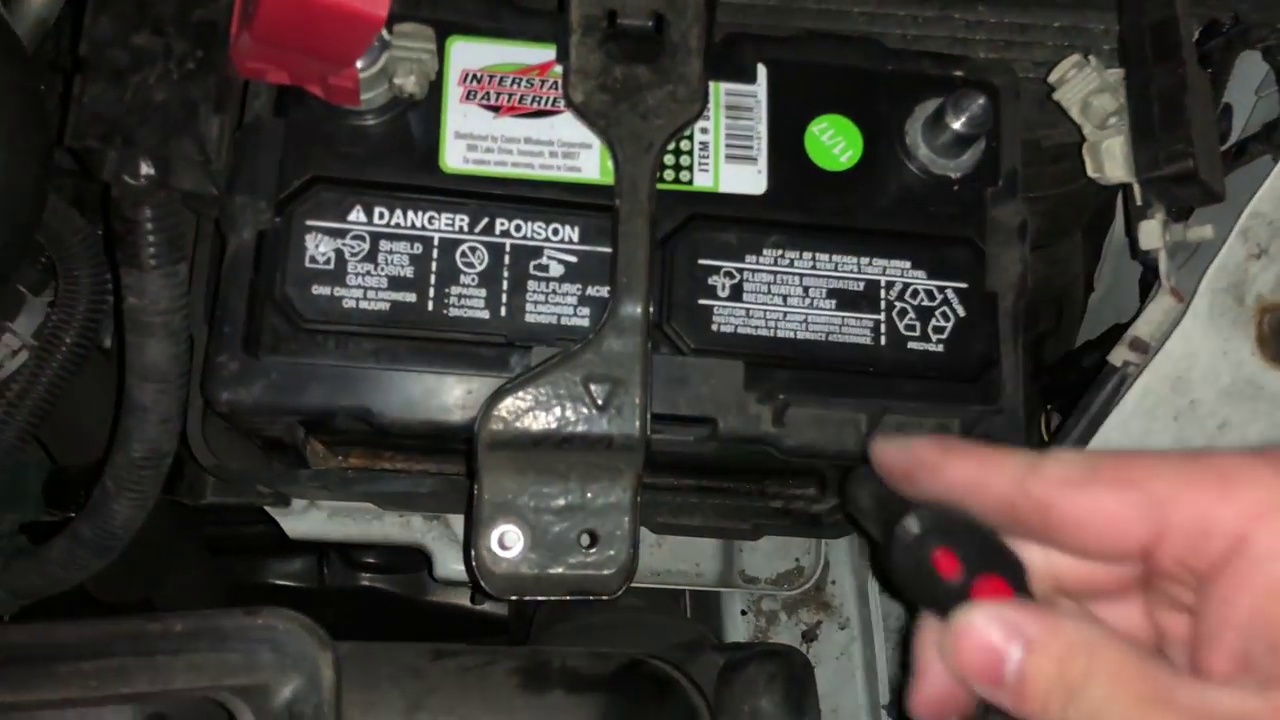battery: (243, 8, 1017, 437)
neg_disconnected: (874, 70, 1025, 184)
pos_connected: (219, 1, 461, 135)
